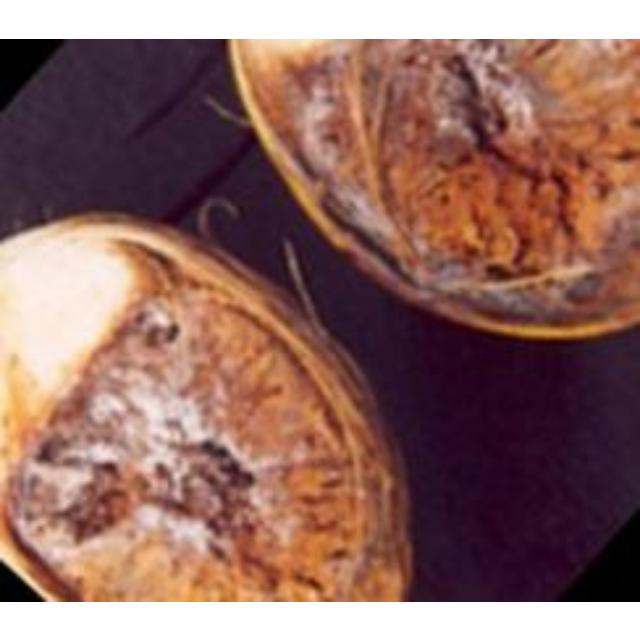damaged: (0, 211, 412, 599), (226, 38, 637, 342)
